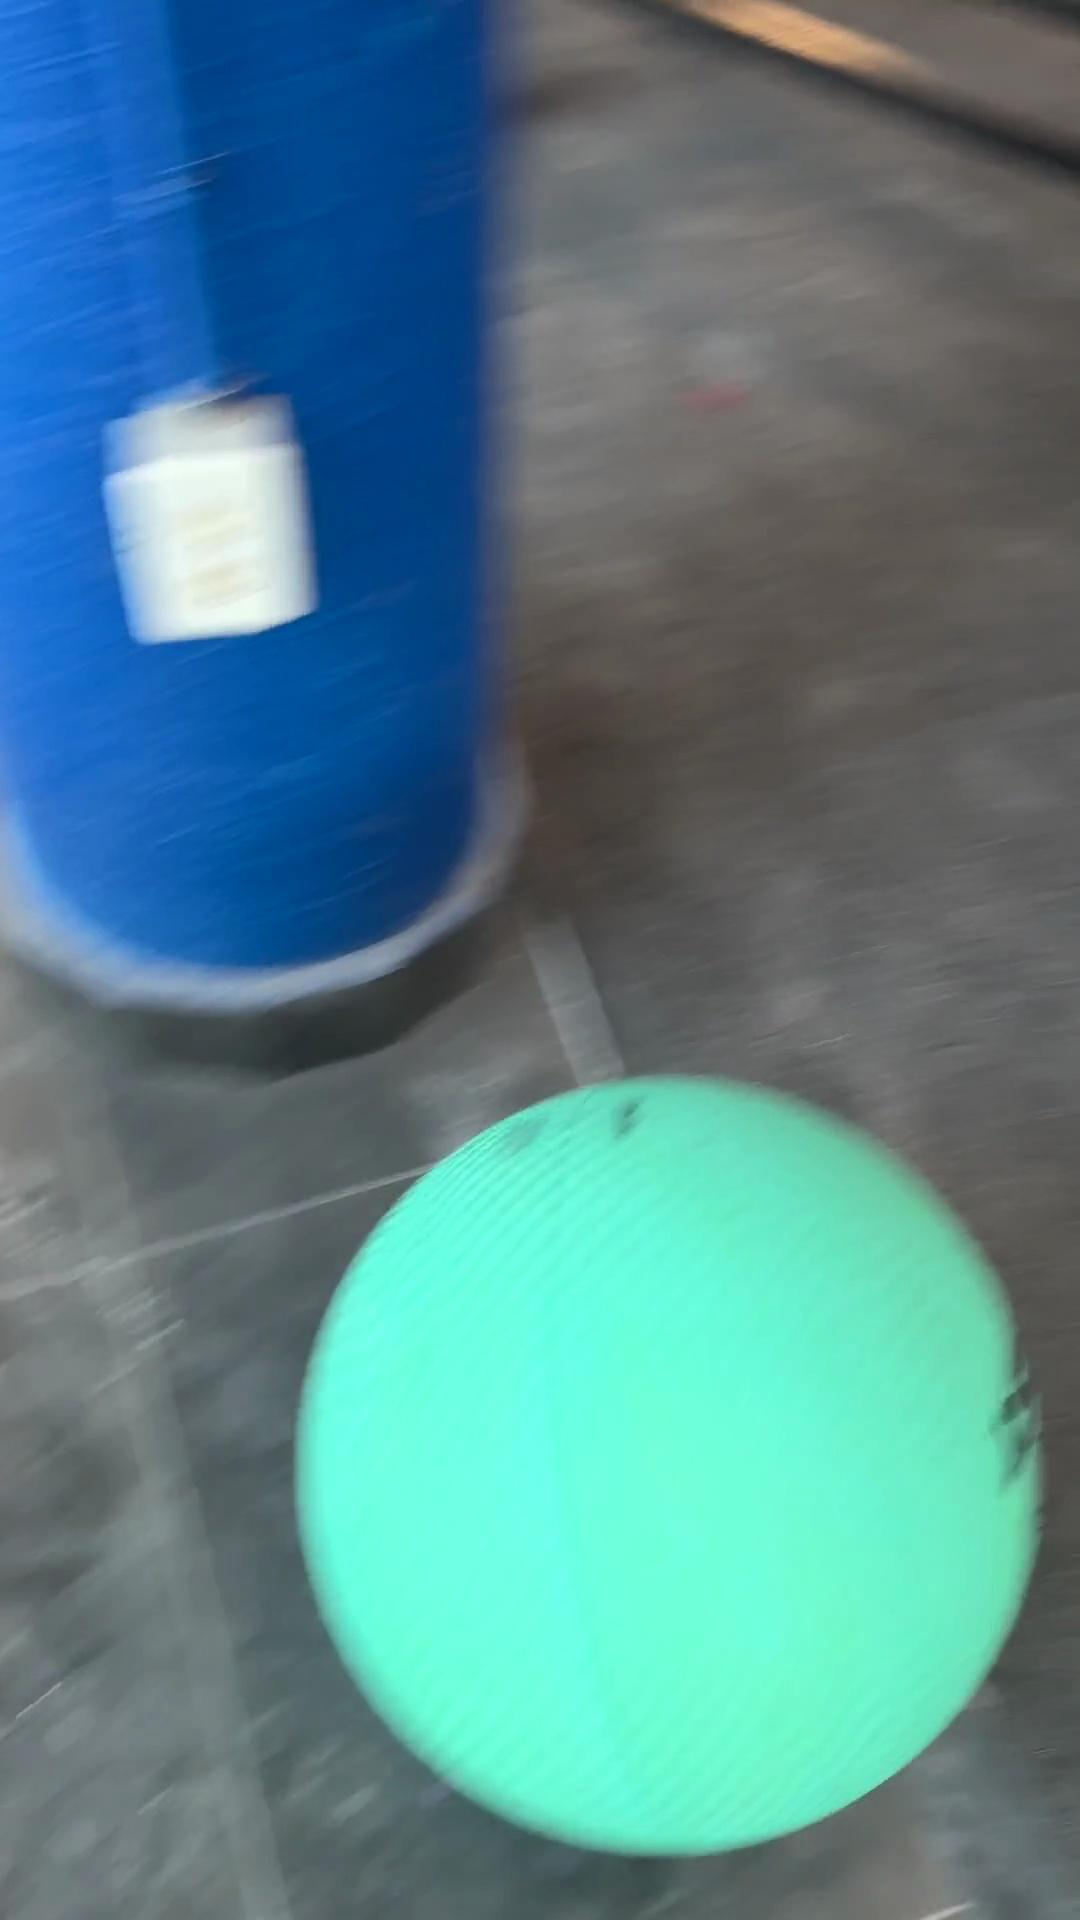ALGAE: (291, 1069, 1047, 1859)
